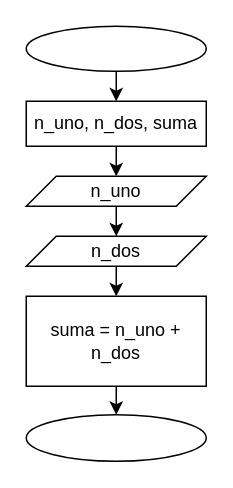
Image size: 233x488. Some labels were removed from this diagram. The shapes that lost their labels are listed below. From the top down, each one's centre as x and y in pixels, then its label:
the point at 115,48: inicio
the point at 115,437: fin
